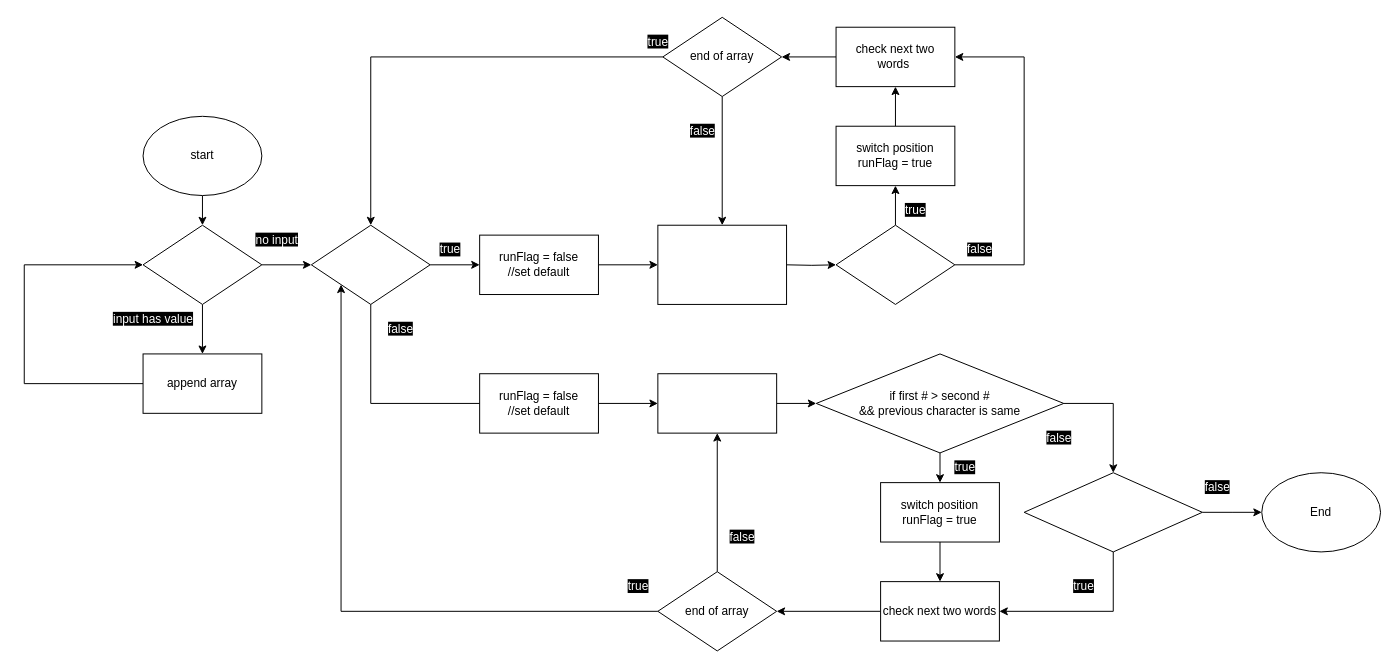
Some shapes in this 1398 by 668 pixel diagram are drawn without their labels. Each missing label, with the centre of its shape:
"convert first letter of two words to a number ex) a = 1, b = 2, c = 3...." goes at point (722, 264).
"convert next letter of two words to a number" goes at point (717, 403).
"if first # <= second # && character != nil" goes at point (1112, 512).
"if first # > second #" goes at point (895, 264).
"read input" goes at point (202, 264).
"while runFalg == true" goes at point (370, 264).
